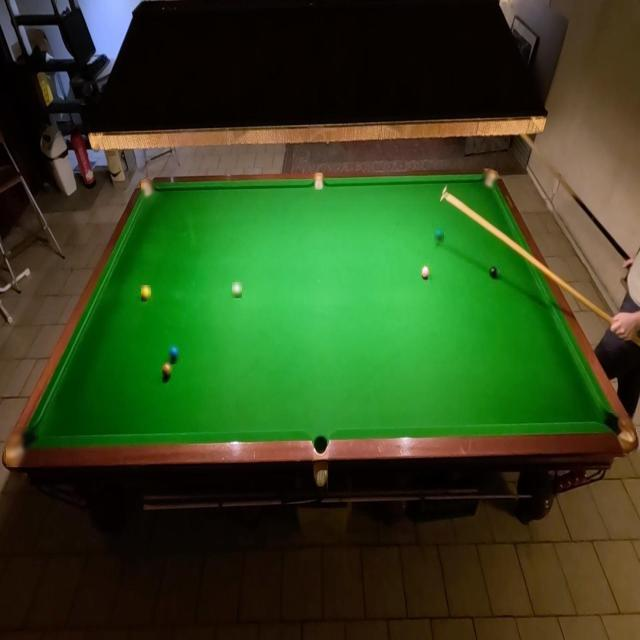Ball: (168, 344, 180, 364), (490, 264, 500, 282), (162, 362, 172, 380), (232, 282, 242, 298), (141, 286, 151, 302), (422, 266, 432, 282), (434, 228, 444, 243)
Pocket: (6, 427, 39, 467), (603, 414, 636, 452), (312, 434, 329, 456), (482, 171, 498, 190), (141, 180, 155, 199), (313, 174, 325, 190)
